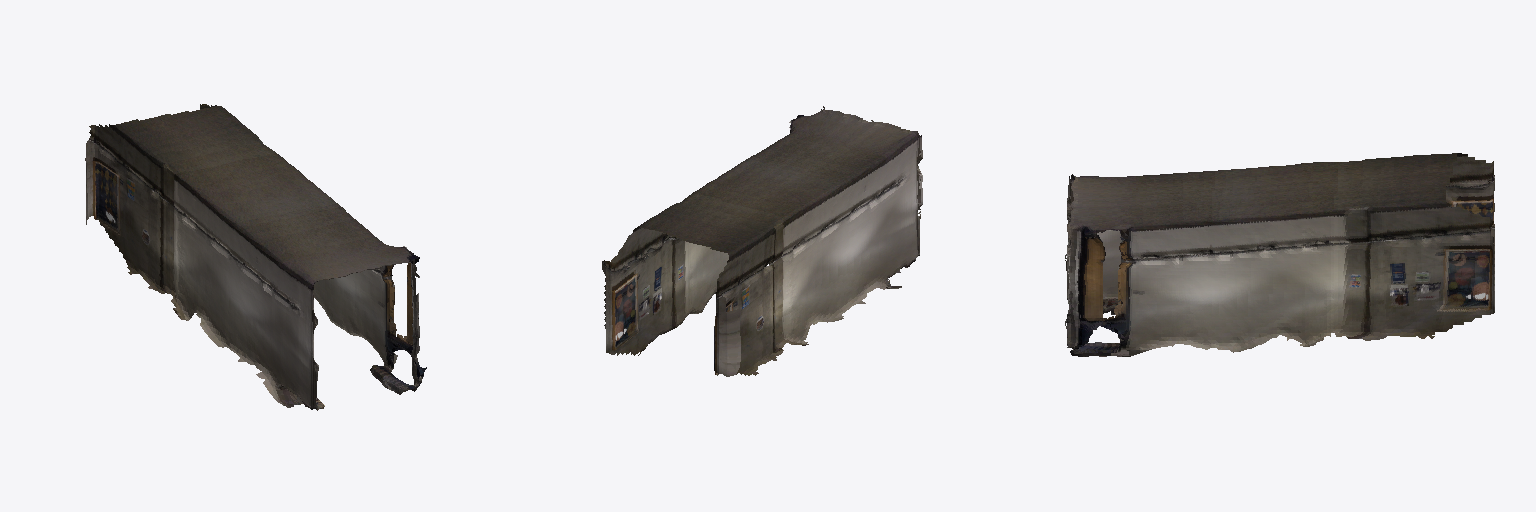
The picture shows the model from 3 angles: view 1: azimuth 30°, elevation 25°; view 2: azimuth 150°, elevation 25°; view 3: azimuth 270°, elevation 25°; orthographic projection.
Size of the model in its own units: 3.46 by 3.72 by 9.13.
Materials: 1 (1 with a texture image).